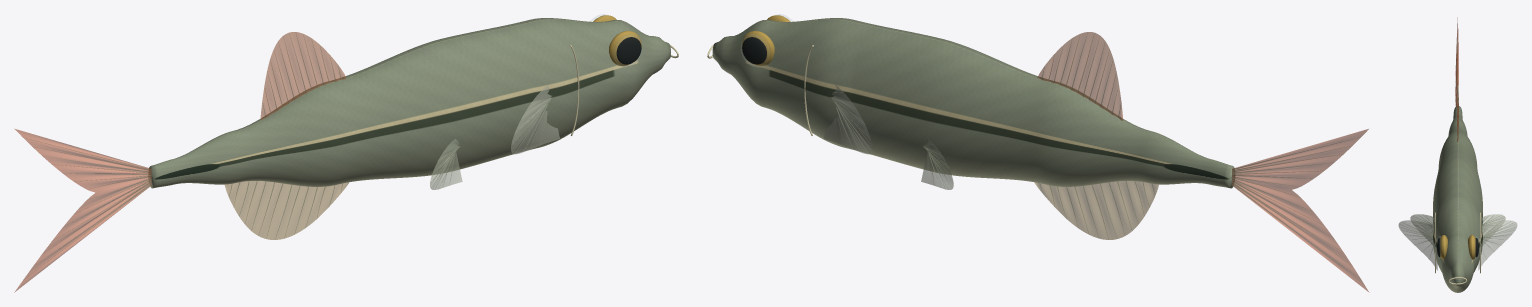
File: whitecloud-desktop.glb
The picture shows the model from 3 angles, left to right: view 1: azimuth 30°, elevation 25°; view 2: azimuth 150°, elevation 25°; view 3: azimuth 270°, elevation 25°; orthographic projection. The views are drawn at different scales.
Visible parts, largest first — view 1: skin, tail, anal, dorsal, dorsal-ray, pectoral-left, pelvic-left, eye-pupil--1, eye-iris--1; view 2: skin, tail, anal, dorsal, dorsal-ray, pectoral-left, pelvic-left, eye-pupil--1, eye-iris--1; view 3: skin, pectoral-left, pelvic-left, dorsal-ray, eye-iris--1, tail, operculum, eye-pupil--1, dorsal.
Boxes of the visible parts, left/top/right/bottom form: skin: left=148, top=18, right=670, bottom=188; tail: left=14, top=129, right=151, bottom=292; anal: left=225, top=181, right=348, bottom=239; dorsal: left=260, top=32, right=346, bottom=119; dorsal-ray: left=25, top=34, right=552, bottom=278; pectoral-left: left=511, top=85, right=559, bottom=154; pelvic-left: left=430, top=139, right=462, bottom=189; eye-pupil--1: left=616, top=37, right=641, bottom=64; eye-iris--1: left=593, top=15, right=641, bottom=66; skin: left=712, top=18, right=1234, bottom=188; tail: left=1232, top=129, right=1368, bottom=291; anal: left=1034, top=181, right=1158, bottom=239; dorsal: left=1037, top=32, right=1123, bottom=120; dorsal-ray: left=831, top=33, right=1359, bottom=278; pectoral-left: left=823, top=85, right=872, bottom=154; pelvic-left: left=921, top=139, right=953, bottom=189; eye-pupil--1: left=742, top=37, right=766, bottom=64; eye-iris--1: left=741, top=15, right=790, bottom=66; skin: left=1433, top=106, right=1482, bottom=292; pectoral-left: left=1398, top=220, right=1517, bottom=270; pelvic-left: left=1410, top=214, right=1505, bottom=244; dorsal-ray: left=1403, top=40, right=1512, bottom=252; eye-iris--1: left=1440, top=235, right=1475, bottom=259; tail: left=1455, top=17, right=1458, bottom=105; operculum: left=1435, top=212, right=1480, bottom=284; eye-pupil--1: left=1437, top=238, right=1478, bottom=257; dorsal: left=1457, top=87, right=1458, bottom=141.
Size of the model in its own units: 0.6032 by 0.1794 by 0.1425.
11 materials, 1 textured.
